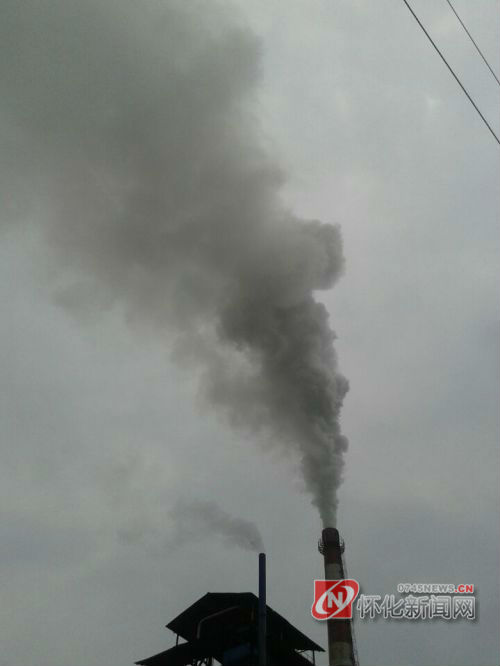dust: (228, 267, 376, 534)
